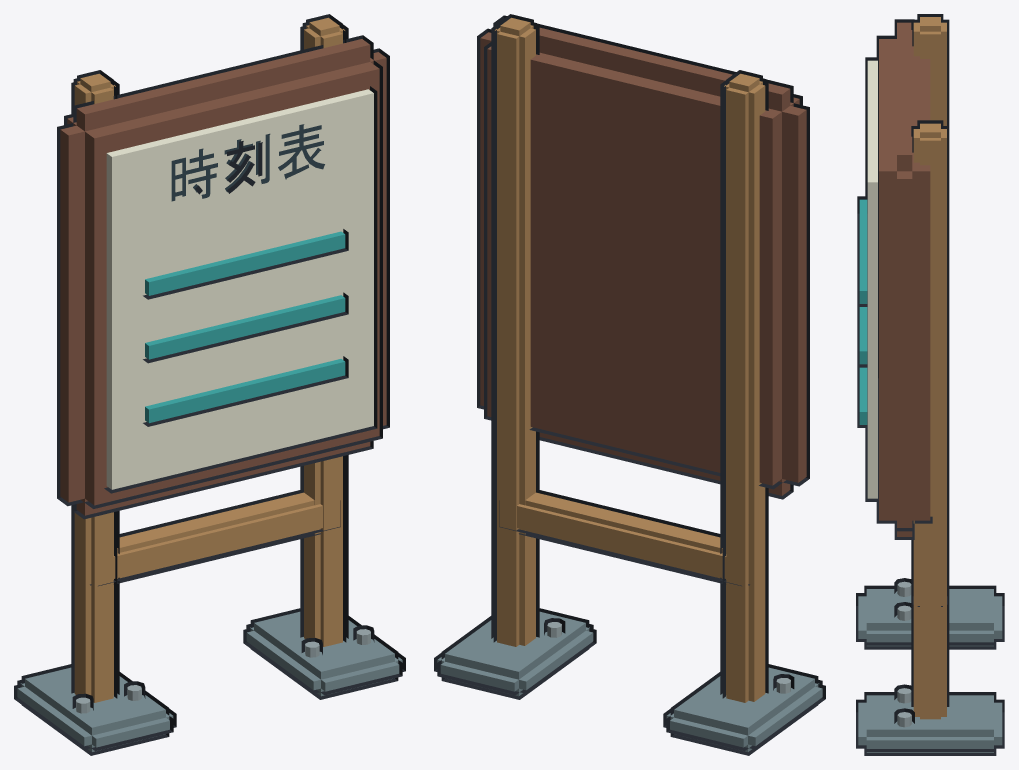
The model's file is NoticeBoard.fbx.
3 views of the same model, side by side, from view 1: azimuth 30°, elevation 25°; view 2: azimuth 150°, elevation 25°; view 3: azimuth 270°, elevation 25° (orthographic). The views are drawn at different scales.
Parts seen in each view (by area): view 1: NoticeBoard_Mesh, NPR_Outline_NoticeBoard_Mesh; view 2: NoticeBoard_Mesh, NPR_Outline_NoticeBoard_Mesh; view 3: NoticeBoard_Mesh, NPR_Outline_NoticeBoard_Mesh.
Part boxes in pixels (x1=…): NoticeBoard_Mesh: x1=17, y1=17, x2=402, y2=751; NPR_Outline_NoticeBoard_Mesh: x1=14, y1=14, x2=405, y2=755; NoticeBoard_Mesh: x1=437, y1=17, x2=822, y2=751; NPR_Outline_NoticeBoard_Mesh: x1=434, y1=14, x2=825, y2=755; NoticeBoard_Mesh: x1=858, y1=17, x2=1002, y2=752; NPR_Outline_NoticeBoard_Mesh: x1=856, y1=14, x2=1004, y2=755.
Bounding box in the file's own units: 68.92 × 131 × 29.26.
